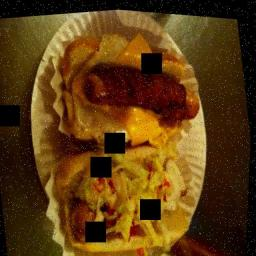hotdog: (83, 50, 204, 136), (58, 187, 112, 247)
